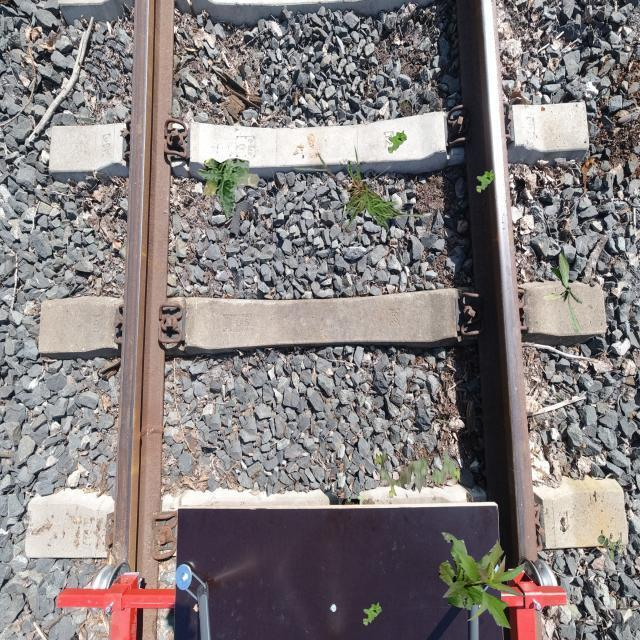Plant: (294, 145, 438, 235), (439, 531, 528, 628), (374, 447, 461, 498), (197, 158, 260, 220), (543, 252, 583, 334), (598, 530, 626, 560), (388, 129, 408, 154), (476, 168, 496, 192), (363, 601, 382, 626)
